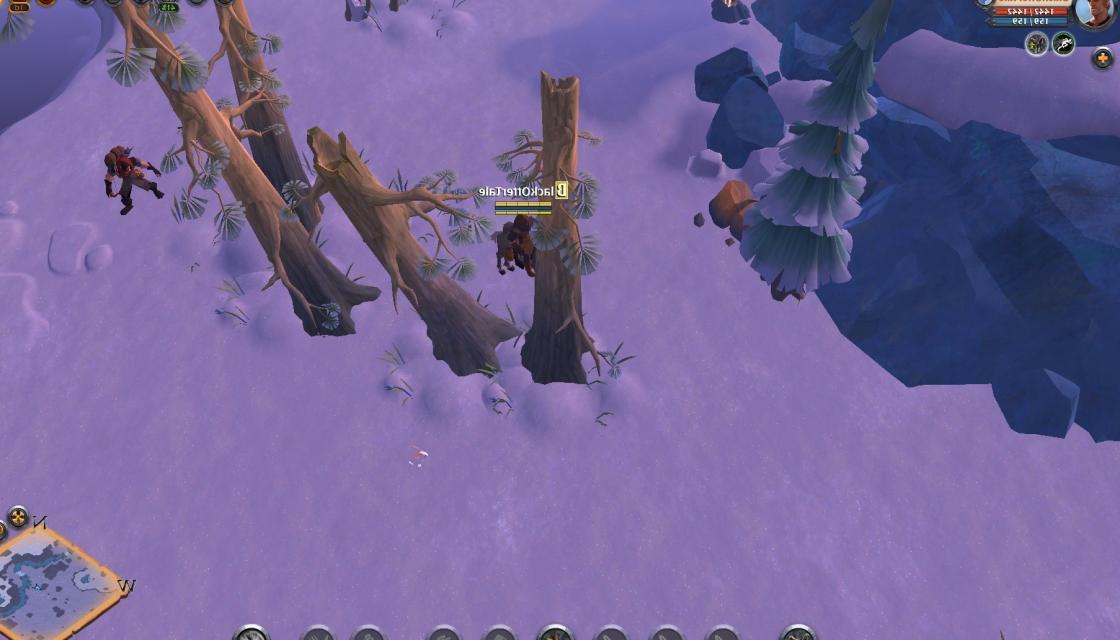copperore: (706, 0, 753, 23)
limestone: (704, 174, 768, 238)
